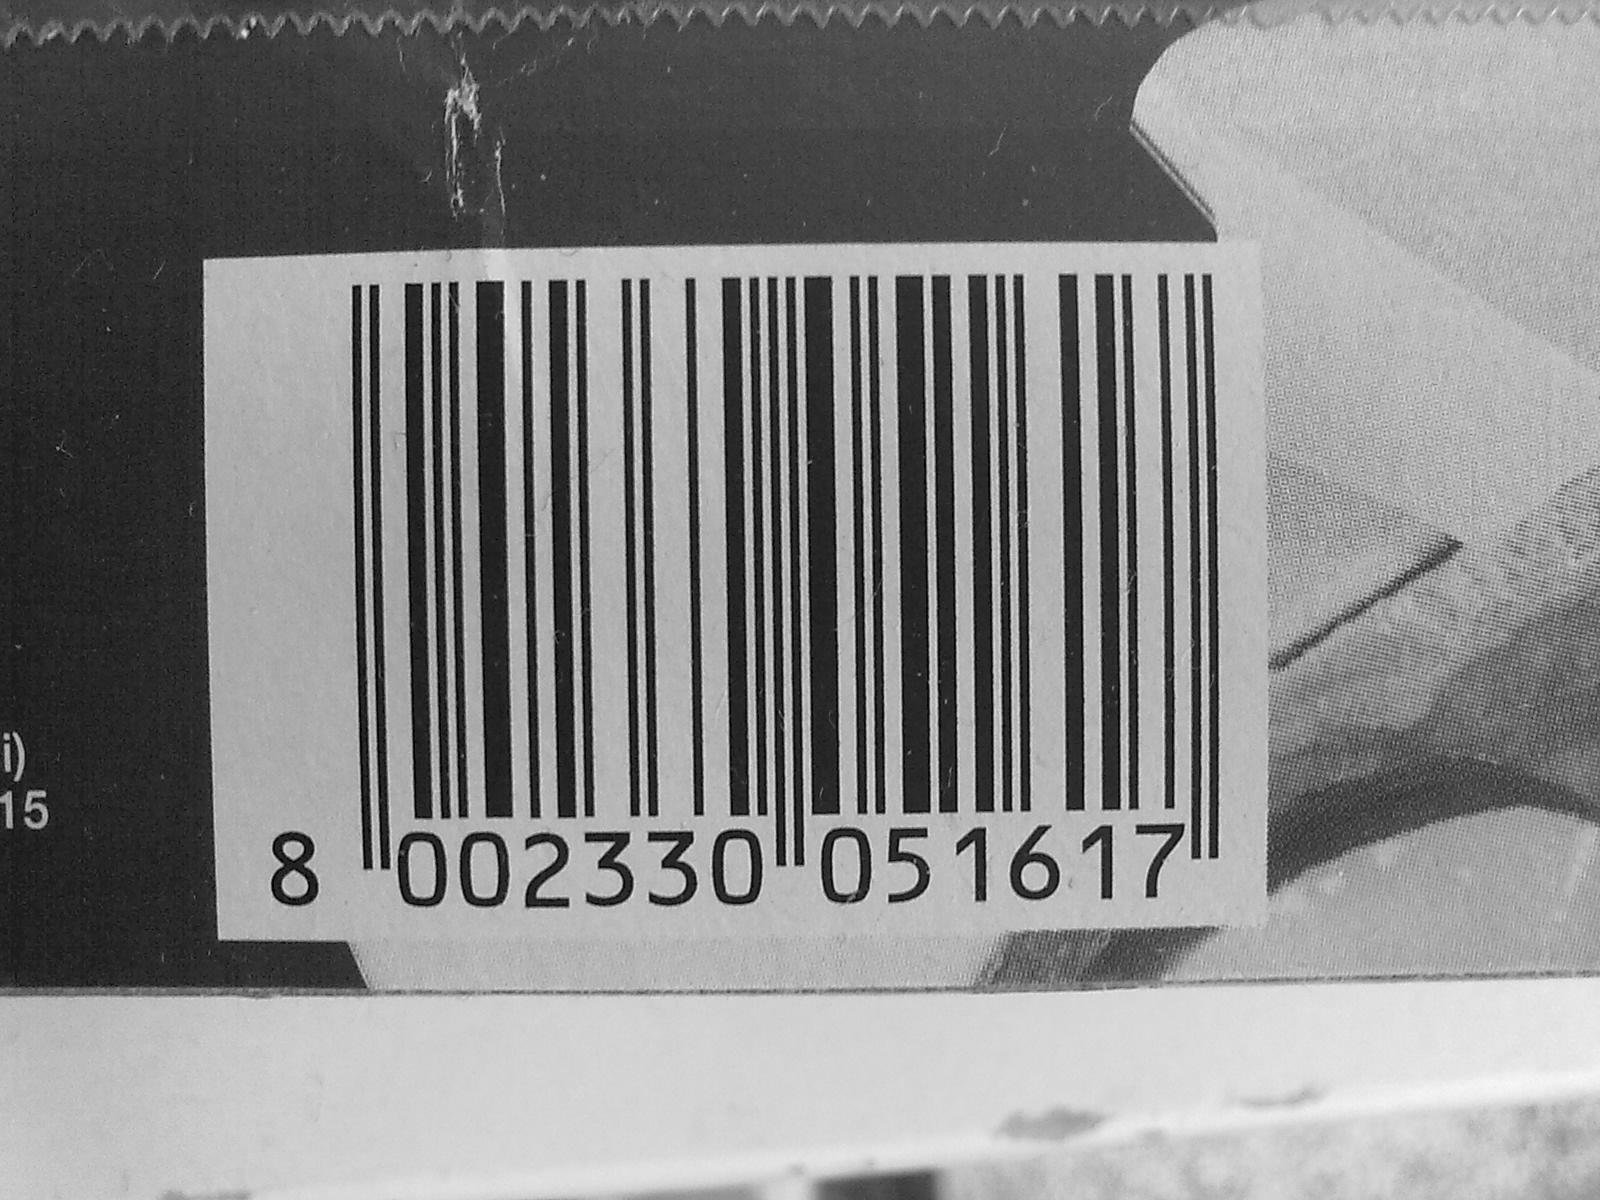Barcode: (232, 253, 1249, 865)
